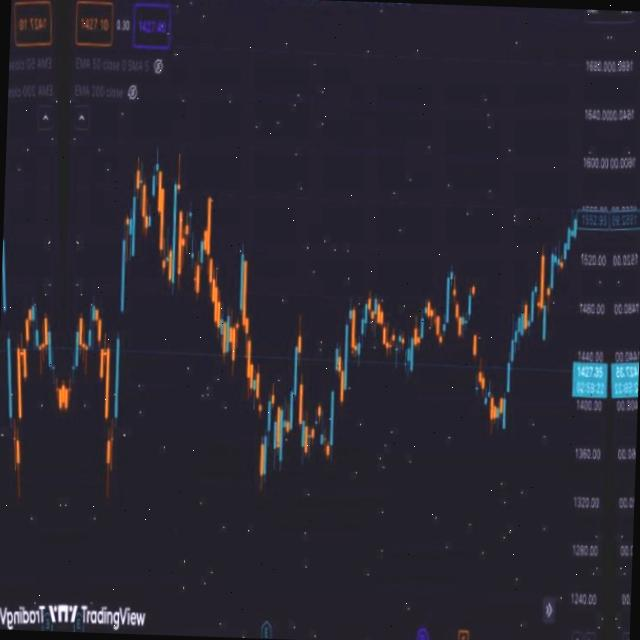Gap Down: (102, 347, 114, 464), (296, 336, 304, 414), (470, 286, 478, 354), (256, 403, 264, 467), (472, 335, 482, 382)
Gap Up: (115, 238, 126, 412), (330, 348, 338, 444), (502, 362, 510, 428), (357, 318, 363, 356)
